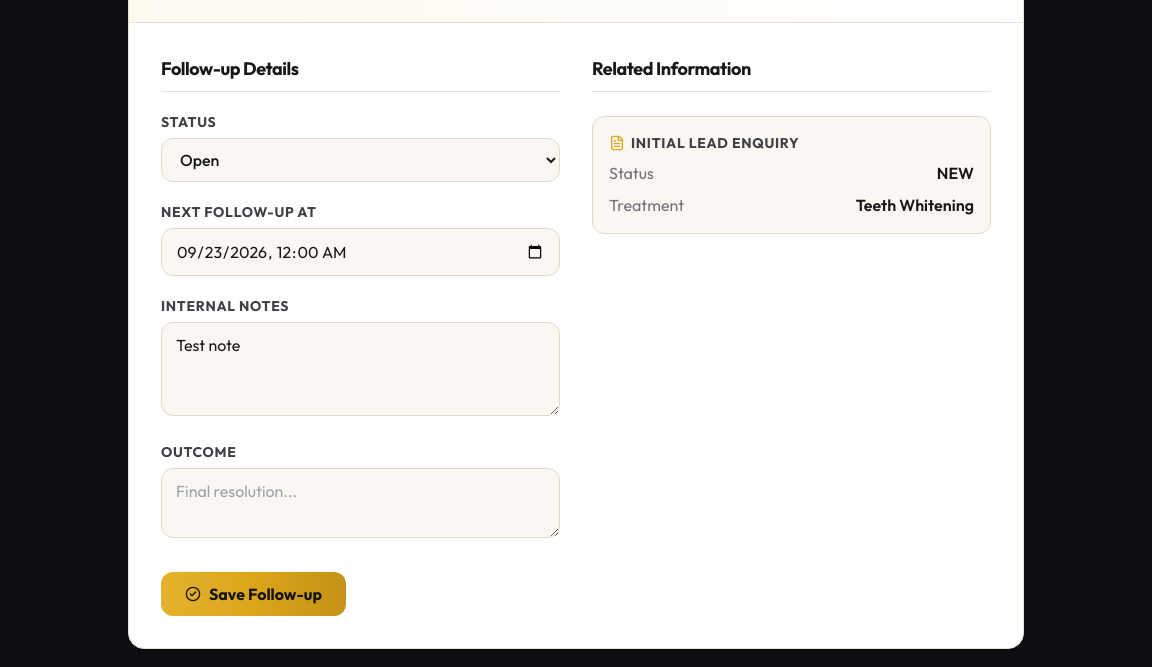
Test case: ContactDetail Component › handles save successfully
(page scrolled)
Click the button "Save Follow-up" at (253,594), box [161,572,346,616]
(page scrolled)
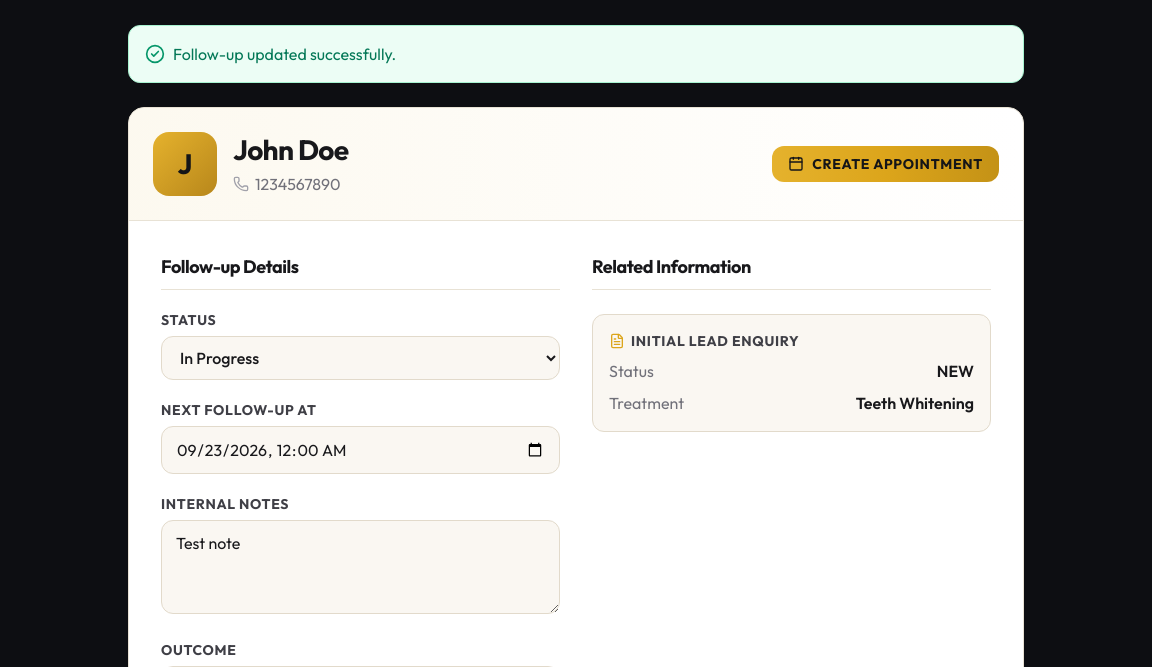
Now the text "Follow-up updated successfully." is shown, box [128,25,1024,83]
